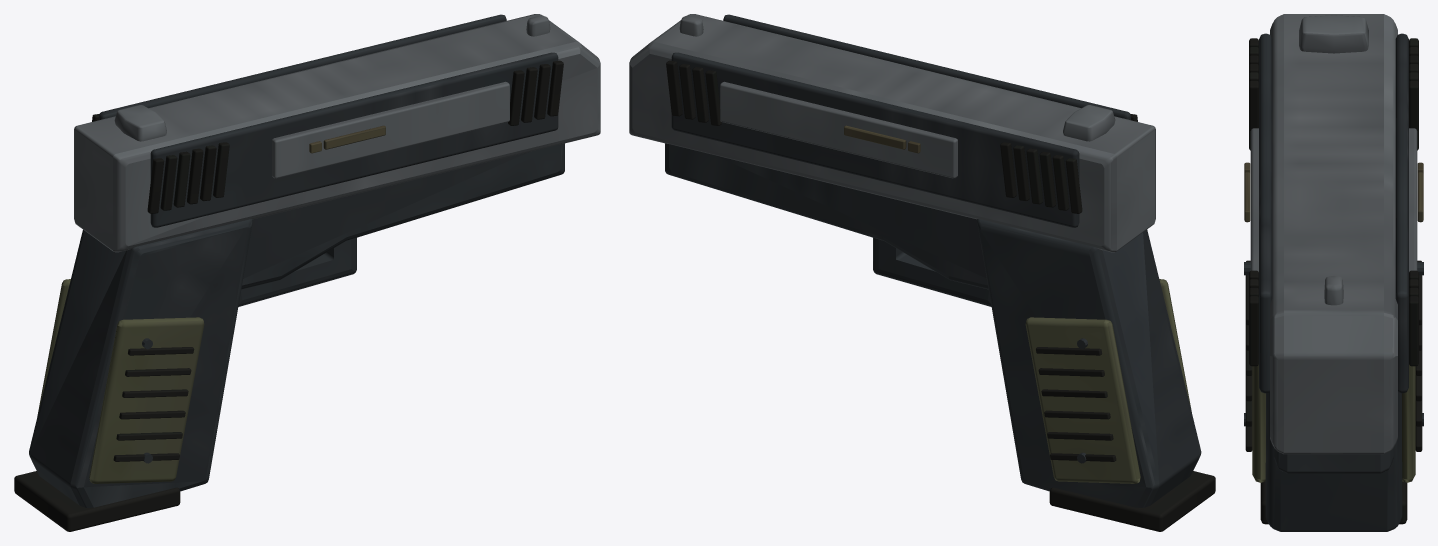
File: pistol.glb
3 views of the same model, side by side, from view 1: azimuth 30°, elevation 25°; view 2: azimuth 150°, elevation 25°; view 3: azimuth 270°, elevation 25° (orthographic). The views are drawn at different scales.
Parts seen in each view (by area): view 1: pistol_premium; view 2: pistol_premium; view 3: pistol_premium.
Boxes of the visible parts, x1,y1,x2,y2 form: pistol_premium: [14, 14, 600, 531]; pistol_premium: [629, 14, 1215, 531]; pistol_premium: [1244, 14, 1423, 531].
Size of the model in its own units: 0.2475 by 0.164 by 0.054.
5 materials, 5 textured.
